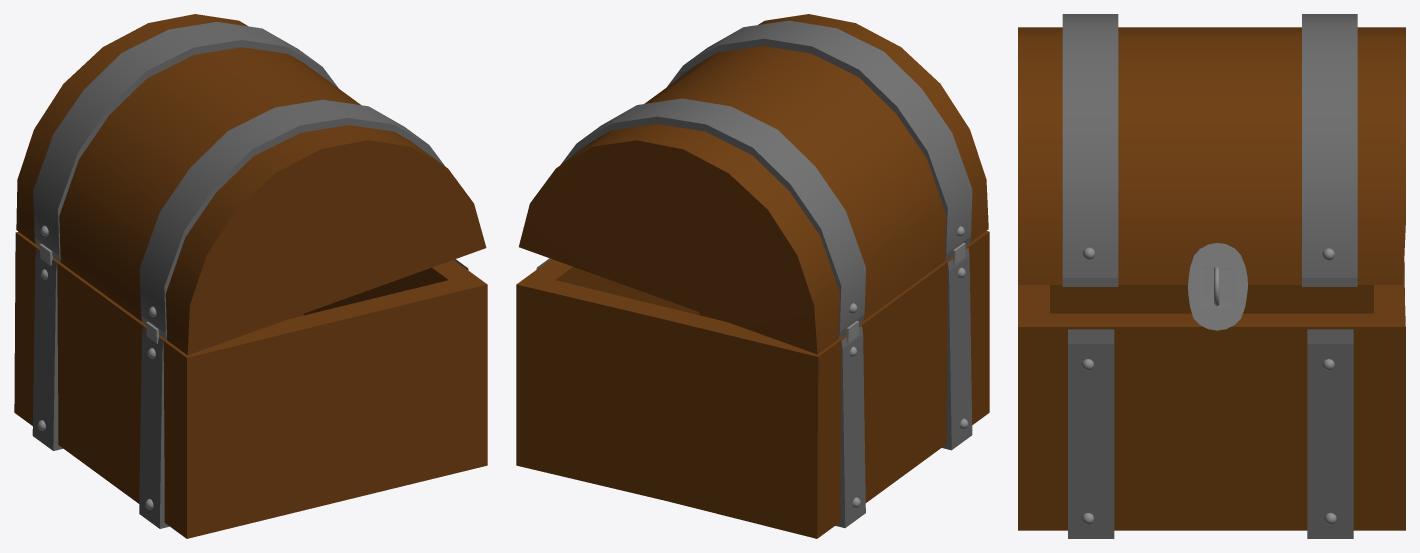
File: monstrefini001.fbx
3 renders of one model, left to right at view 1: azimuth 30°, elevation 25°; view 2: azimuth 150°, elevation 25°; view 3: azimuth 270°, elevation 25°, orthographic. The views are drawn at different scales.
Parts seen in each view (by area): view 1: polySurface19, polySurface17, polySurface6, polySurface5, polySurface28, polySurface18; view 2: polySurface19, polySurface17, polySurface6, polySurface5, polySurface18, polySurface28; view 3: polySurface19, polySurface17, polySurface5, polySurface6, polySurface18, polySurface28, polySurface10, polySurface12.
Part boxes in pixels (x1,y1,x2,y2): polySurface19: [14, 232, 487, 538]; polySurface17: [16, 14, 486, 355]; polySurface6: [33, 21, 338, 262]; polySurface5: [139, 99, 444, 339]; polySurface28: [139, 259, 468, 528]; polySurface18: [32, 248, 62, 450]; polySurface19: [516, 231, 989, 538]; polySurface17: [519, 14, 988, 354]; polySurface6: [560, 98, 865, 338]; polySurface5: [667, 20, 972, 260]; polySurface18: [536, 258, 865, 527]; polySurface28: [942, 248, 972, 450]; polySurface19: [1018, 262, 1405, 530]; polySurface17: [1018, 27, 1405, 284]; polySurface5: [1062, 14, 1118, 286]; polySurface6: [1302, 14, 1357, 286]; polySurface18: [1307, 329, 1353, 538]; polySurface28: [1068, 329, 1114, 538]; polySurface10: [1188, 243, 1247, 330]; polySurface12: [1200, 267, 1234, 306].
Bounding box in the file's own units: 4.57 × 4.97 × 4.18.
